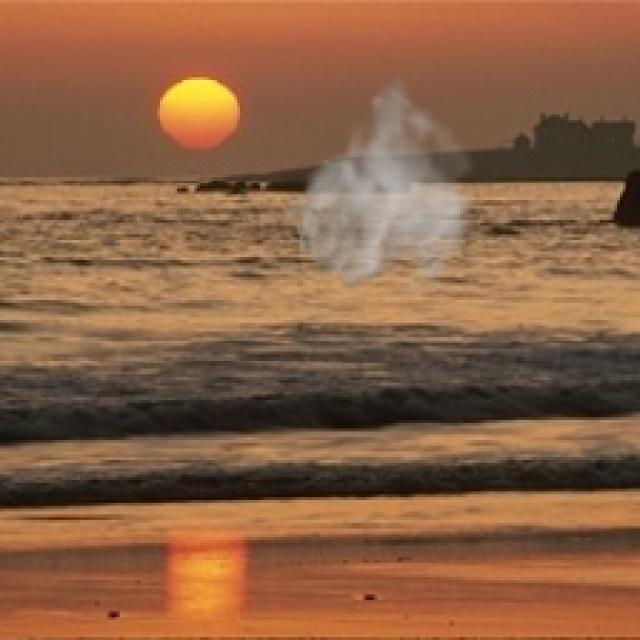Smoke: (280, 68, 480, 312)
